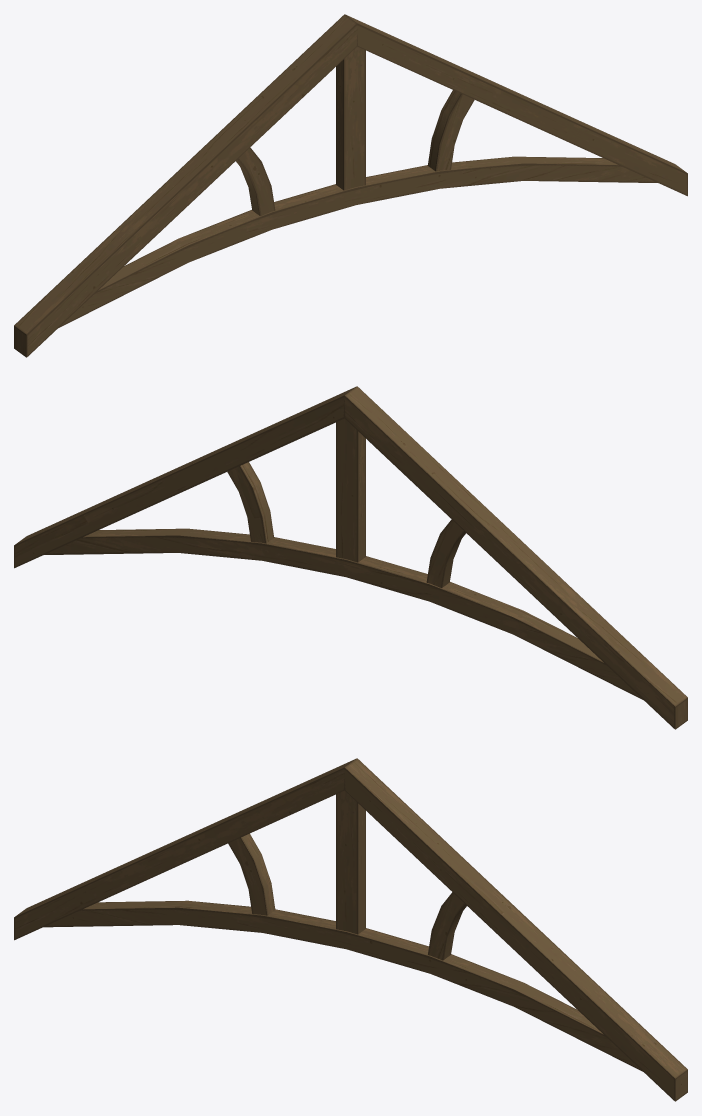
Rendered from SM_building_part_04.glb.
3 views of the same model, one above another, from view 1: azimuth 30°, elevation 25°; view 2: azimuth 150°, elevation 25°; view 3: azimuth 330°, elevation 25° (orthographic).
Parts seen in each view (by area): view 1: SM_building_part_04; view 2: SM_building_part_04; view 3: SM_building_part_04.
Part boxes in pixels (<box>): SM_building_part_04: <box>14,14,687,357</box>; SM_building_part_04: <box>14,386,687,729</box>; SM_building_part_04: <box>14,758,687,1101</box>.
Size of the model in its own units: 6 by 2.2 by 0.2.
1 material, 1 textured.
